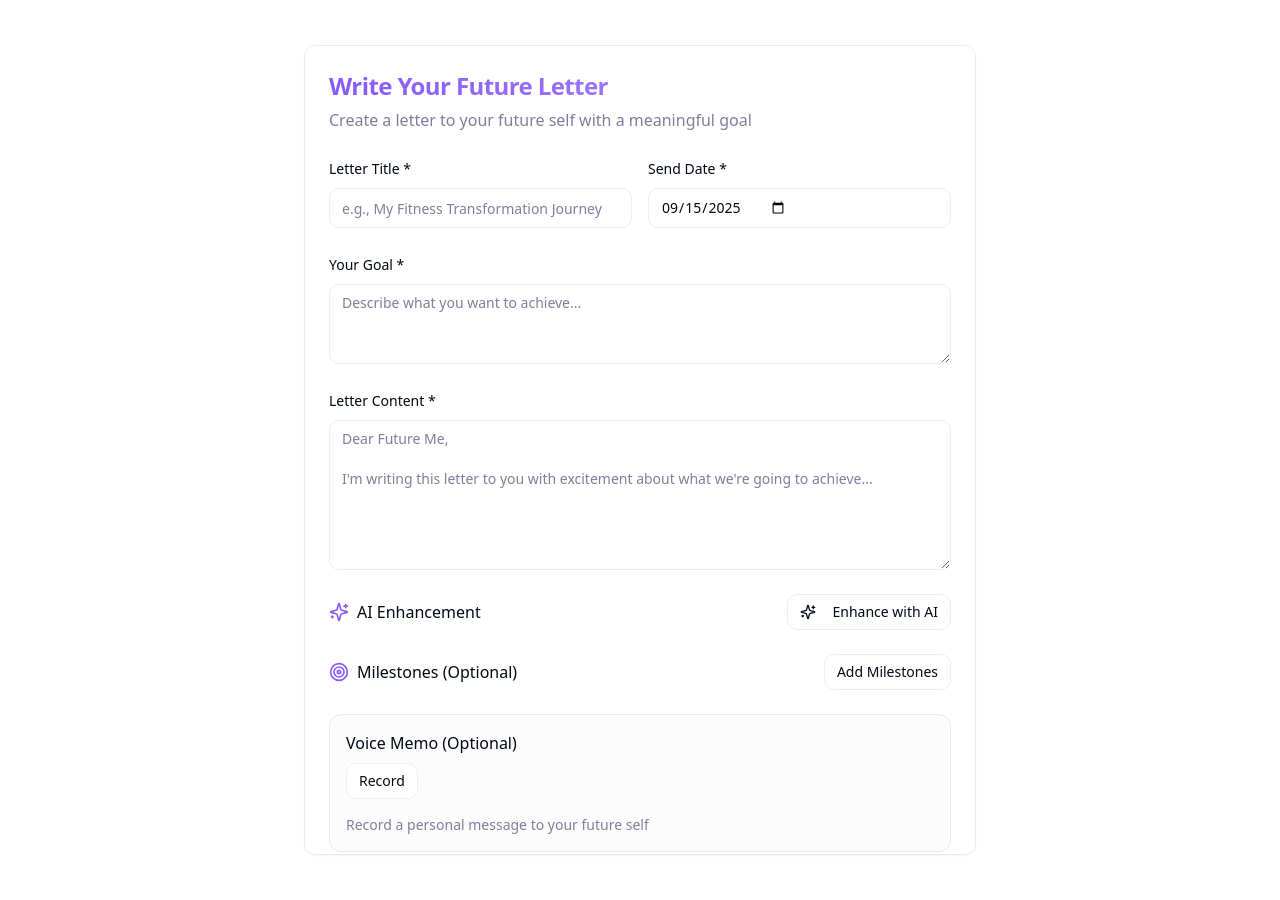
Scenario: CreateLetterForm › Milestones Management › should show milestone section when expanded
Click the button "Add Milestones": (887, 672) [824,654,951,690]
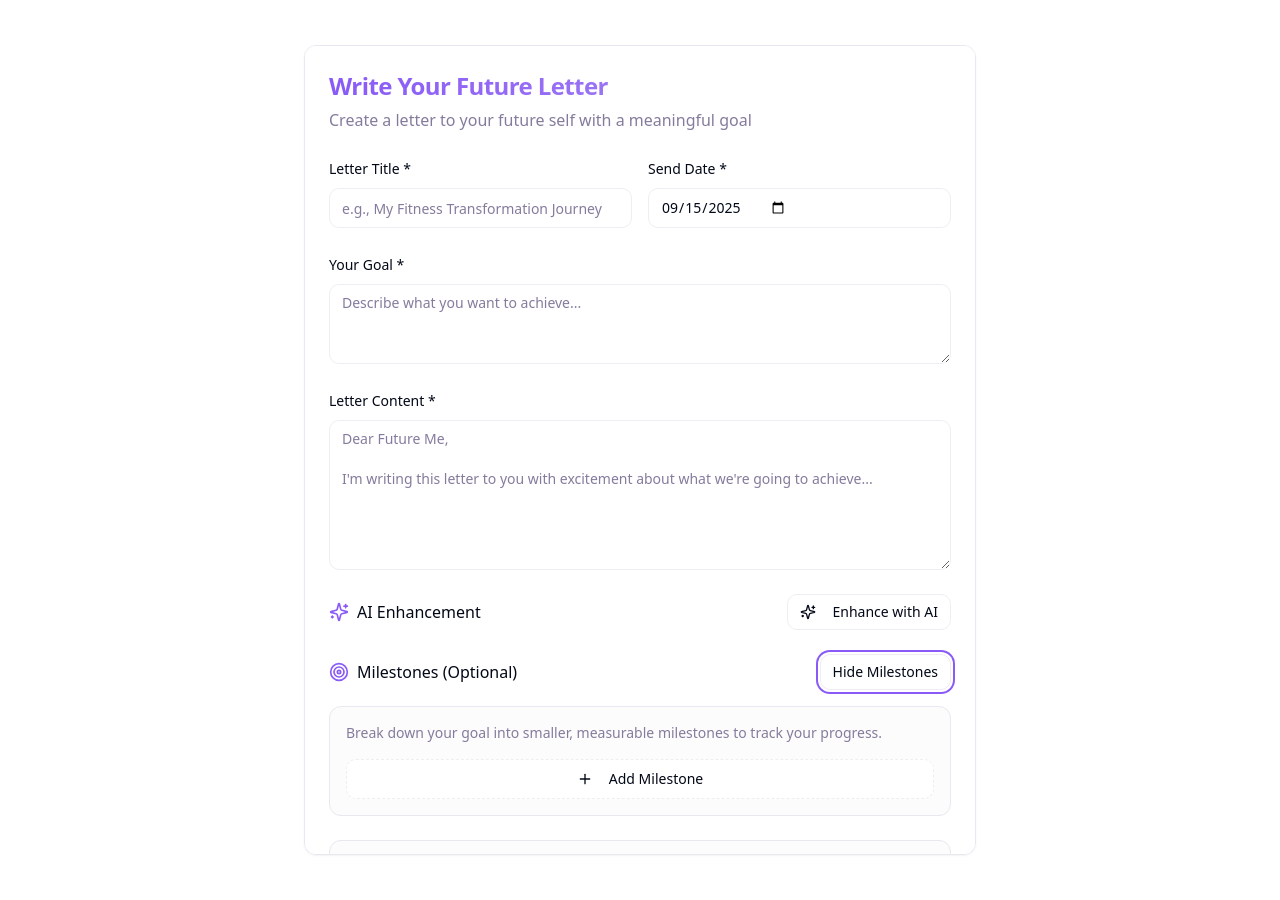
Expected: the button "Add Milestone" is shown, [346,759,934,799]
